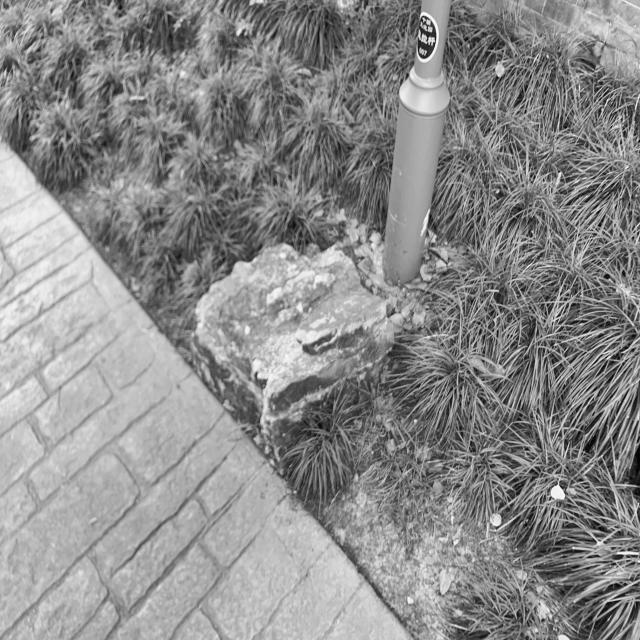Stone: (192, 245, 394, 457)
